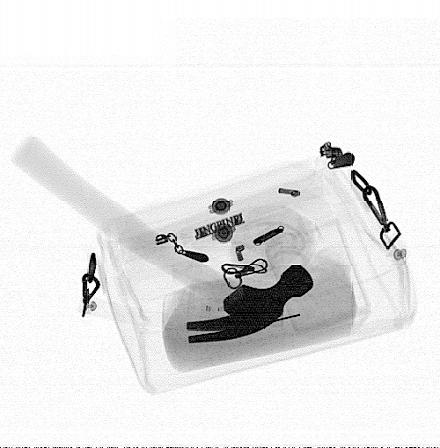Hammer: (9, 133, 315, 345)
